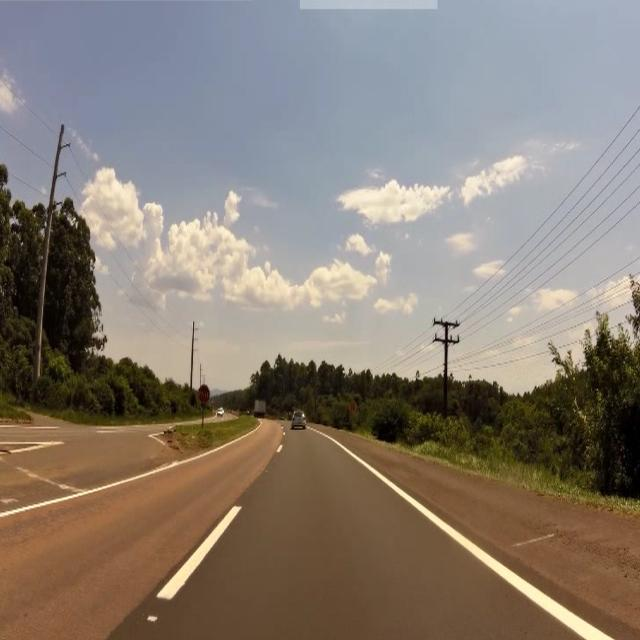R-1: (197, 382, 214, 406)
